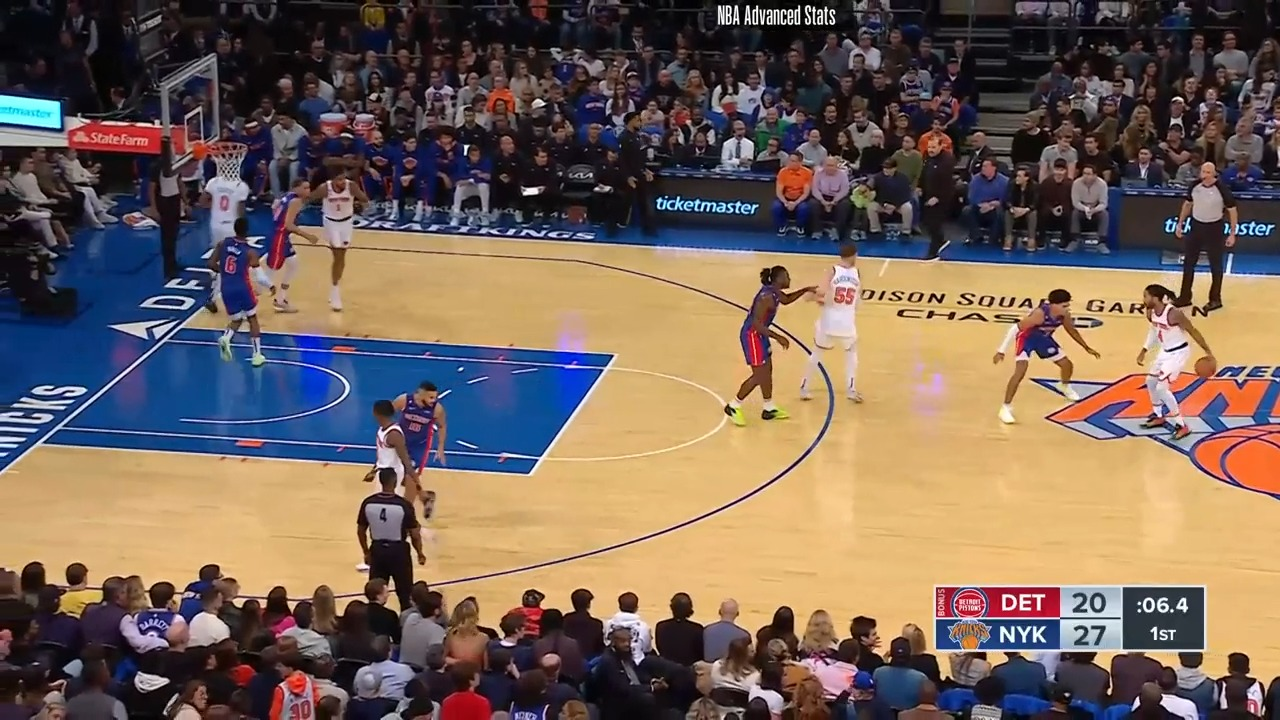net: (189, 134, 258, 184)
player: (997, 290, 1107, 429), (1128, 288, 1218, 449), (797, 239, 873, 411), (725, 267, 800, 433), (297, 164, 370, 313), (213, 221, 277, 376), (358, 396, 438, 518), (387, 377, 450, 524), (256, 175, 319, 316), (202, 168, 256, 279)
referee: (359, 457, 434, 610), (1178, 162, 1242, 321), (146, 154, 192, 288)
